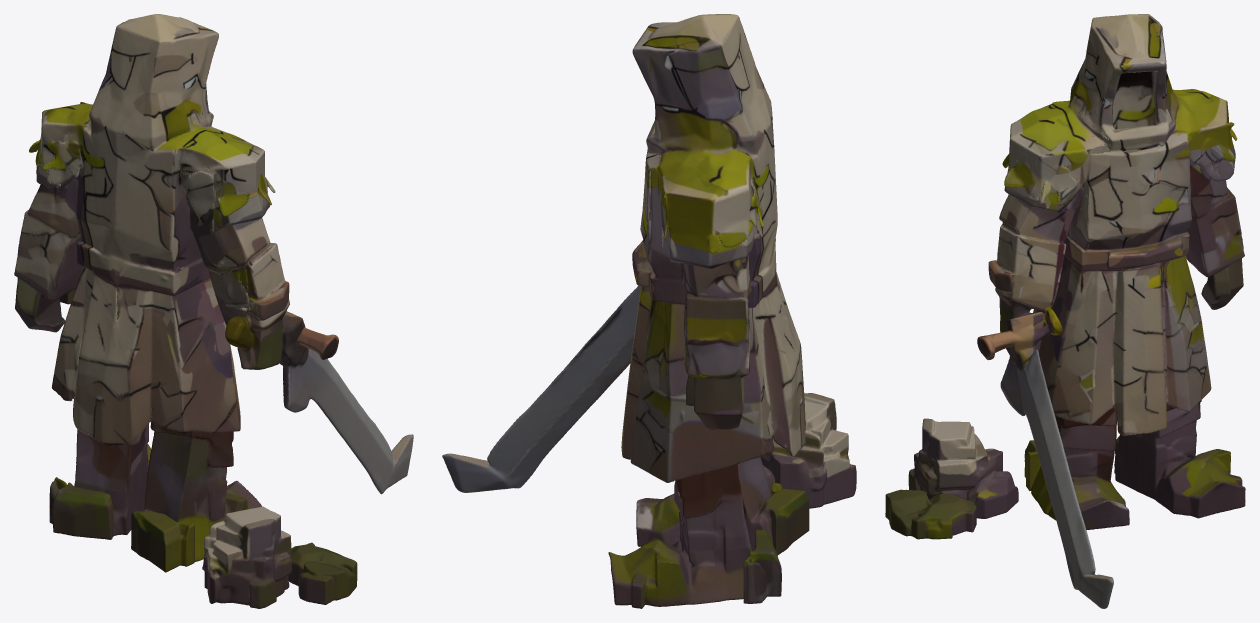
File: landmark_darkwood.glb
3 views of the same model, side by side, from view 1: azimuth 30°, elevation 25°; view 2: azimuth 150°, elevation 25°; view 3: azimuth 270°, elevation 25° (orthographic). The views are drawn at different scales.
Visible parts, largest first — view 1: tripo_node_ecc59e86-ee0a-4263-90d1-1f6fd9b37b15; view 2: tripo_node_ecc59e86-ee0a-4263-90d1-1f6fd9b37b15; view 3: tripo_node_ecc59e86-ee0a-4263-90d1-1f6fd9b37b15.
Part boxes in pixels (left/top/right/bottom): tripo_node_ecc59e86-ee0a-4263-90d1-1f6fd9b37b15: left=14, top=14, right=413, bottom=608; tripo_node_ecc59e86-ee0a-4263-90d1-1f6fd9b37b15: left=442, top=14, right=856, bottom=608; tripo_node_ecc59e86-ee0a-4263-90d1-1f6fd9b37b15: left=885, top=14, right=1245, bottom=608.
Size of the model in its own units: 0.7025 by 1 by 0.6743.
Materials: 1 (1 with a texture image).
